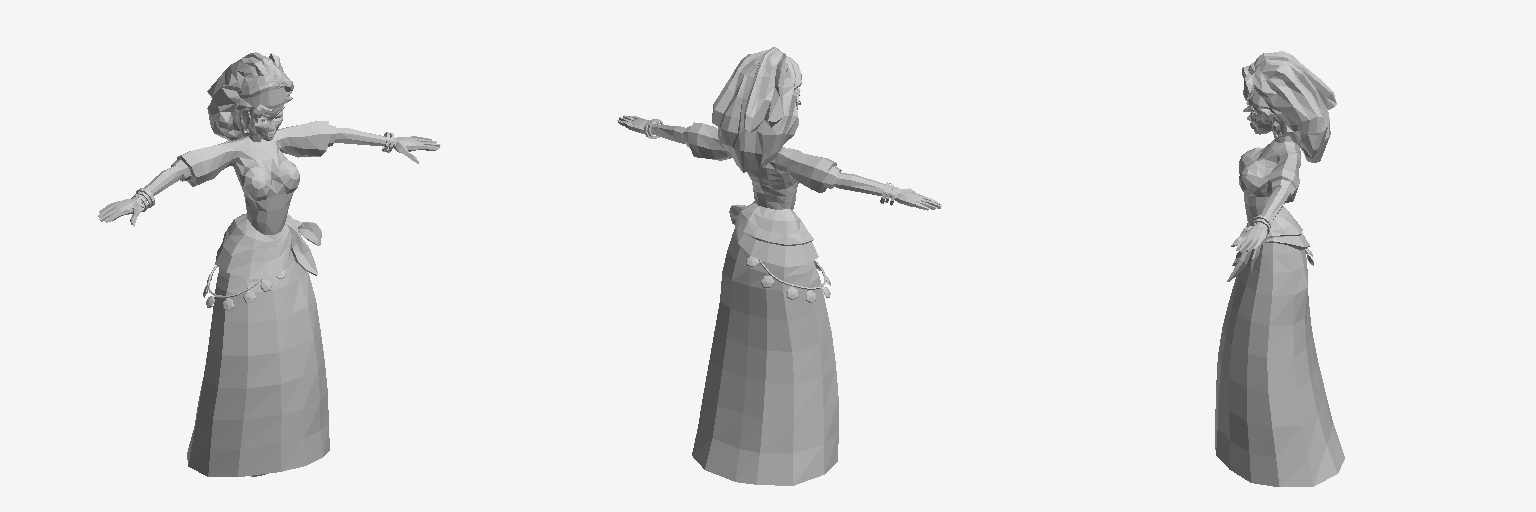
File: pose007.obj
3 views of the same model, side by side, from view 1: azimuth 30°, elevation 25°; view 2: azimuth 150°, elevation 25°; view 3: azimuth 270°, elevation 25° (orthographic).
Visible parts, largest first — view 1: Peasant_girl; view 2: Peasant_girl; view 3: Peasant_girl.
Boxes of the visible parts, x1=… form: Peasant_girl: x1=98, y1=52, x2=440, y2=476; Peasant_girl: x1=617, y1=47, x2=941, y2=485; Peasant_girl: x1=1215, y1=51, x2=1344, y2=486.
Bounding box in the file's own units: 173 × 202 × 58.96.